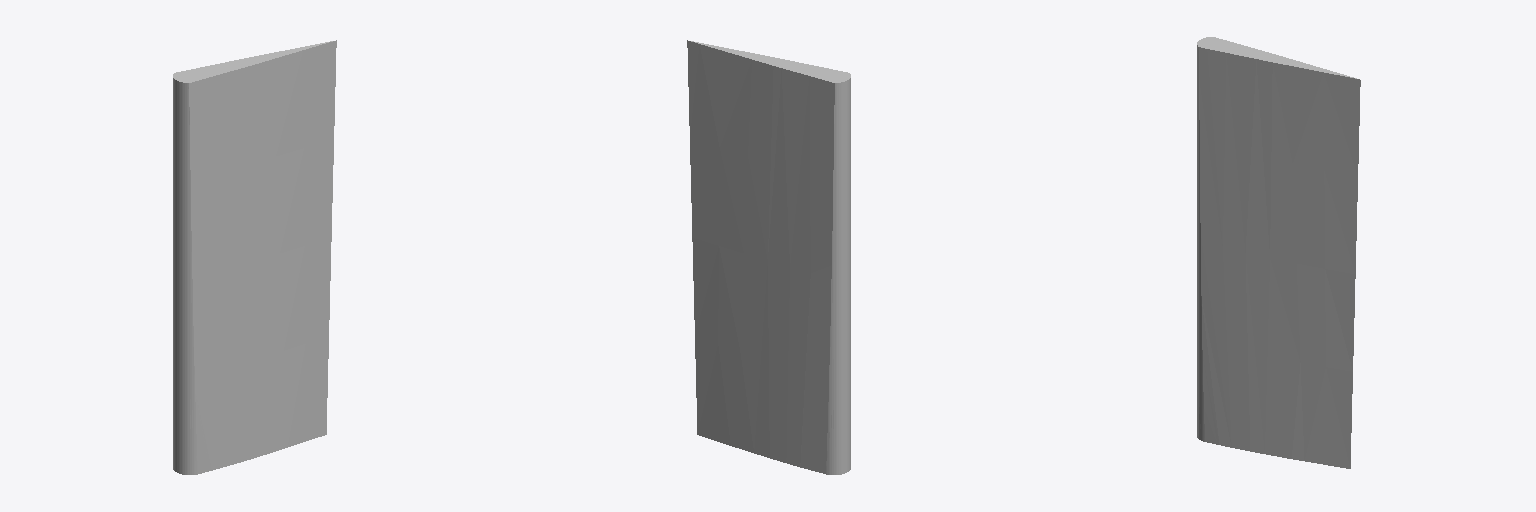
The model's file is Cambered Wing 1.obj.
3 renders of one model, left to right at view 1: azimuth 30°, elevation 25°; view 2: azimuth 150°, elevation 25°; view 3: azimuth 330°, elevation 25°, orthographic.
Parts seen in each view (by area): view 1: mesh2, mesh3, mesh0; view 2: mesh1, mesh3, mesh0; view 3: mesh2, mesh3, mesh0.
Boxes of the visible parts, box(x1,y1,x2,y2) form: mesh2: box(189, 40, 336, 473); mesh3: box(173, 78, 197, 474); mesh0: box(173, 41, 332, 82); mesh1: box(687, 40, 834, 473); mesh3: box(826, 78, 850, 474); mesh0: box(691, 41, 850, 82); mesh2: box(1199, 47, 1360, 468); mesh3: box(1197, 45, 1204, 441); mesh0: box(1197, 37, 1356, 78).
Bounding box in the file's own units: 0.0689 × 0.16 × 0.0125.